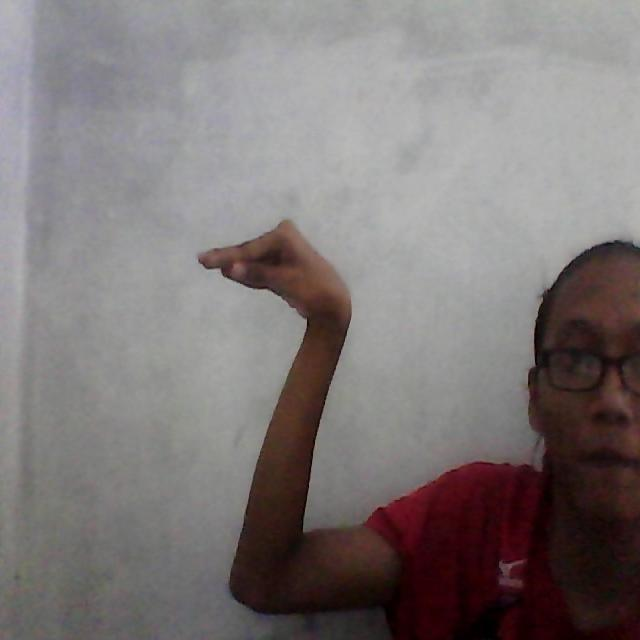Z: (189, 212, 405, 630)
